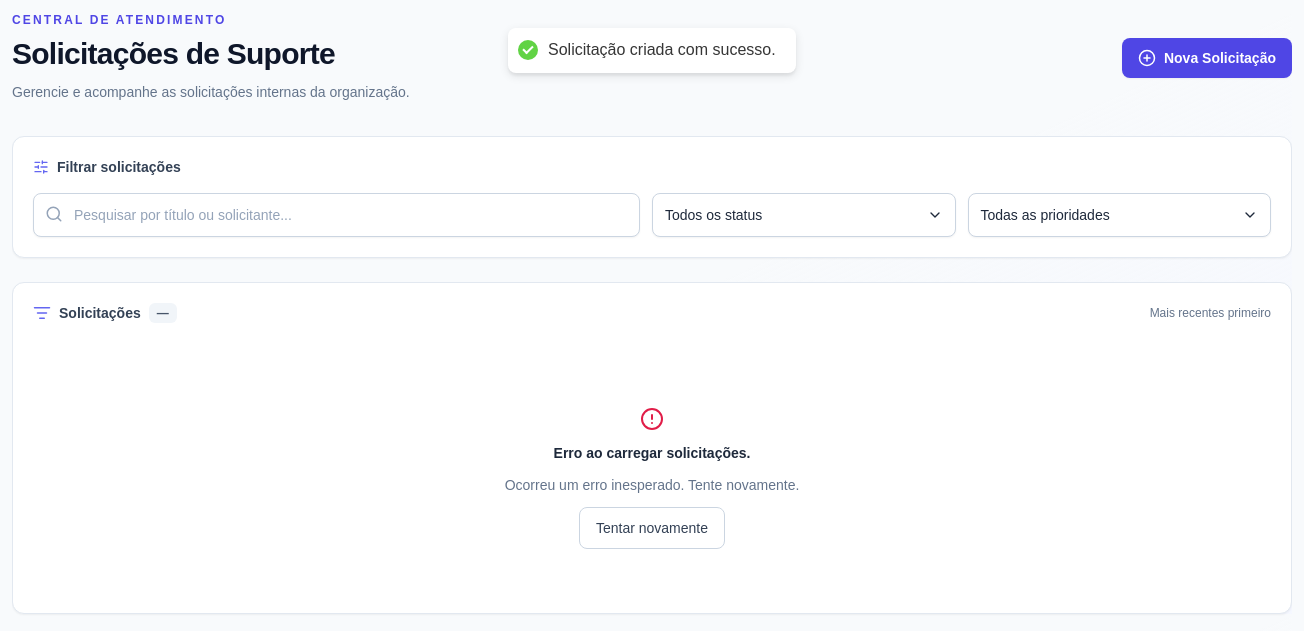
Test: mostra erro e permite tentar novamente
The image size is (1304, 631).
Expected: the message that starts with "Erro ao carregar solicitações." is shown, [554,445,750,461]
Click the button "Tentar novamente".
click(652, 528)  # box [579,507,725,549]
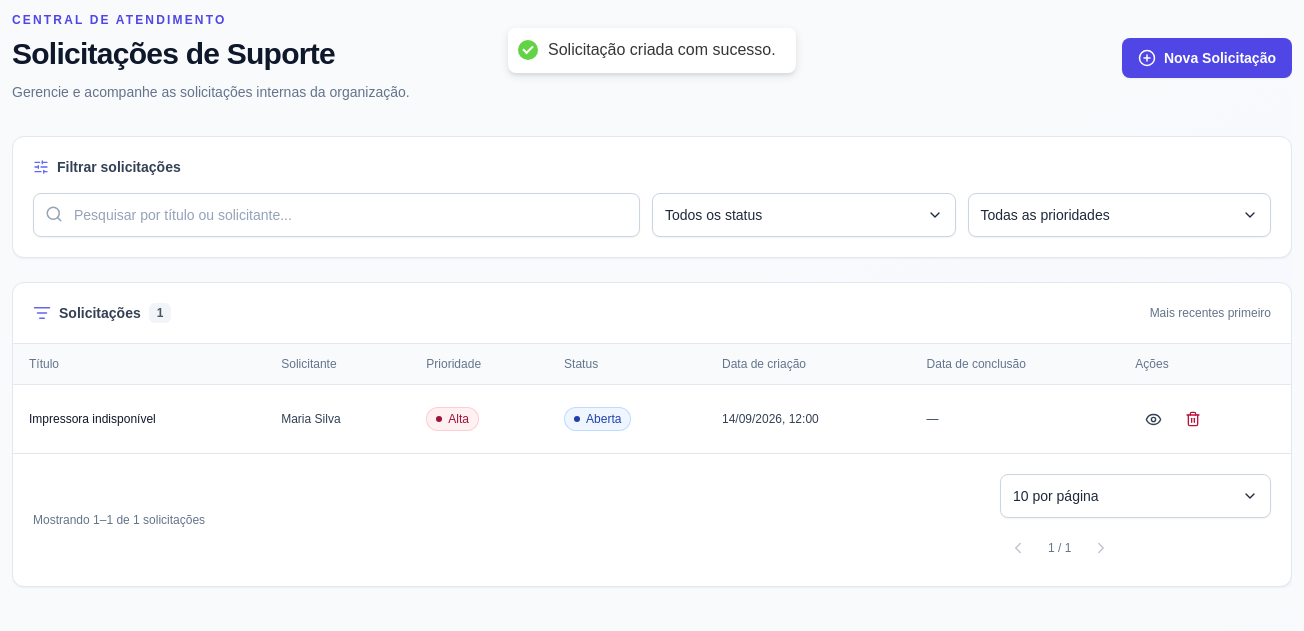
Expected: the text "Impressora indisponível" is shown 2 times
